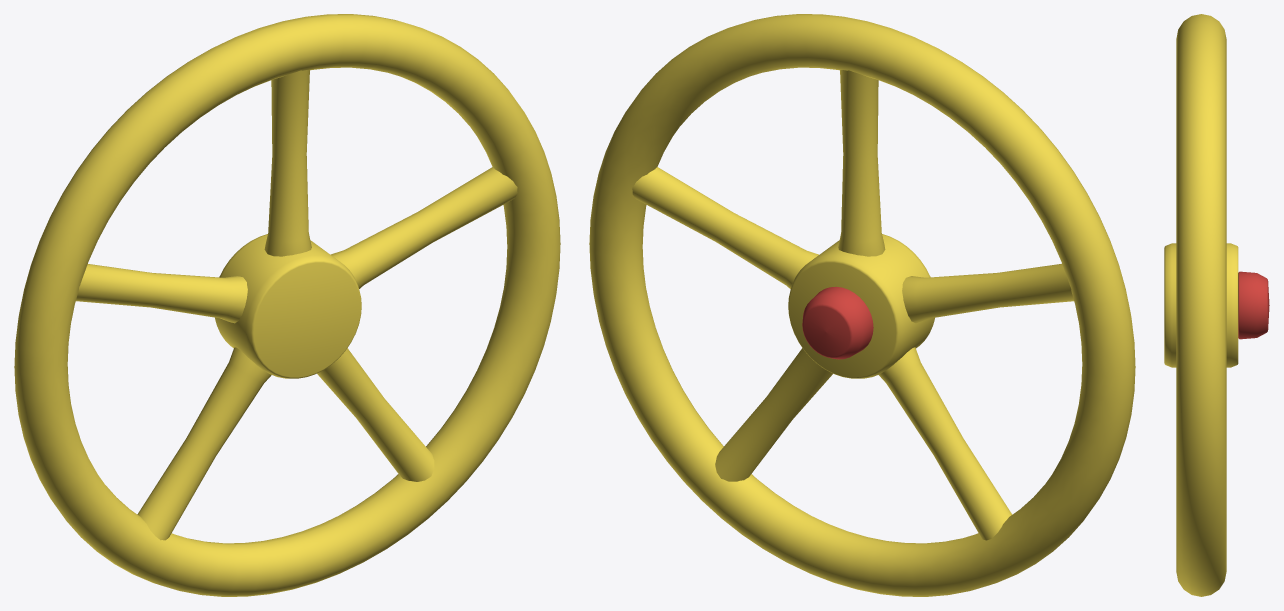
Rendered from valve_wheel.glb.
3 views of the same model, side by side, from view 1: azimuth 30°, elevation 25°; view 2: azimuth 150°, elevation 25°; view 3: azimuth 270°, elevation 25° (orthographic). The views are drawn at different scales.
Visible parts, largest first — view 1: valve_wheel; view 2: valve_wheel; view 3: valve_wheel.
Part boxes in pixels (bbox=[...]): valve_wheel: bbox=[14, 14, 560, 596]; valve_wheel: bbox=[589, 14, 1135, 596]; valve_wheel: bbox=[1164, 14, 1269, 596].
Size of the model in its own units: 0.788 by 0.788 by 0.142.
